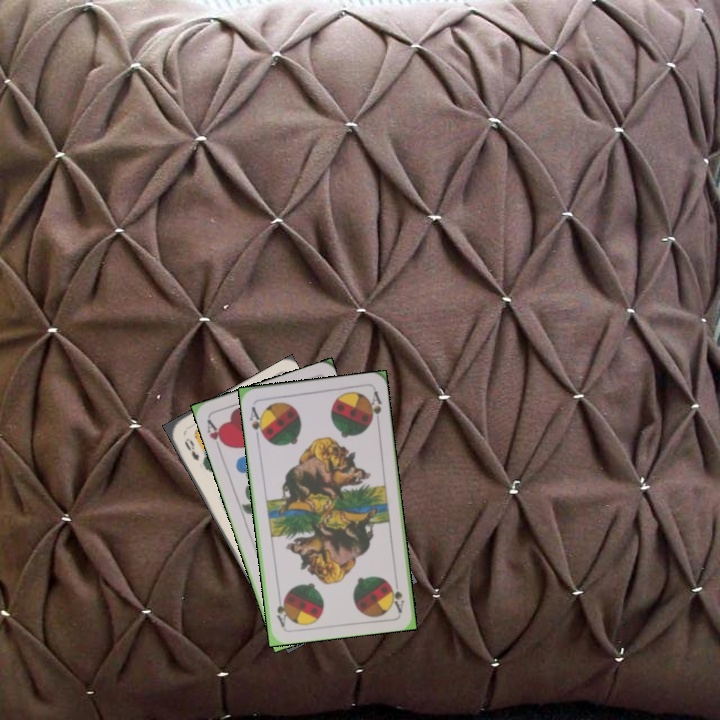EO: (180, 434, 202, 463)
HA: (203, 415, 228, 455)
SA: (246, 402, 267, 442), (387, 574, 407, 615)
